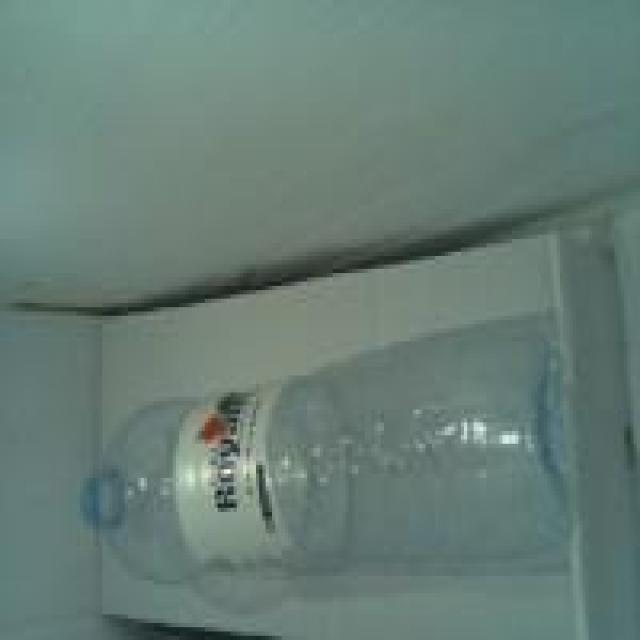Pet_Bottle: (83, 312, 576, 598)
